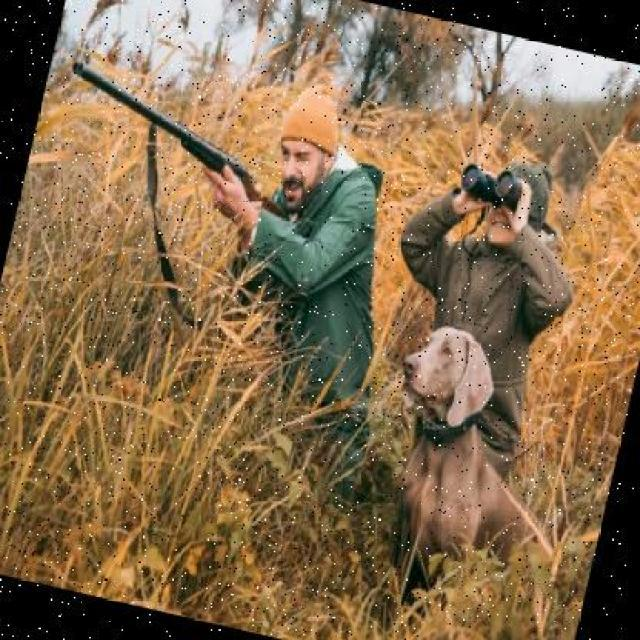p_date: (370, 317, 544, 565)
poacher: (160, 63, 397, 428), (402, 122, 586, 350)
weapon: (63, 58, 282, 254)
